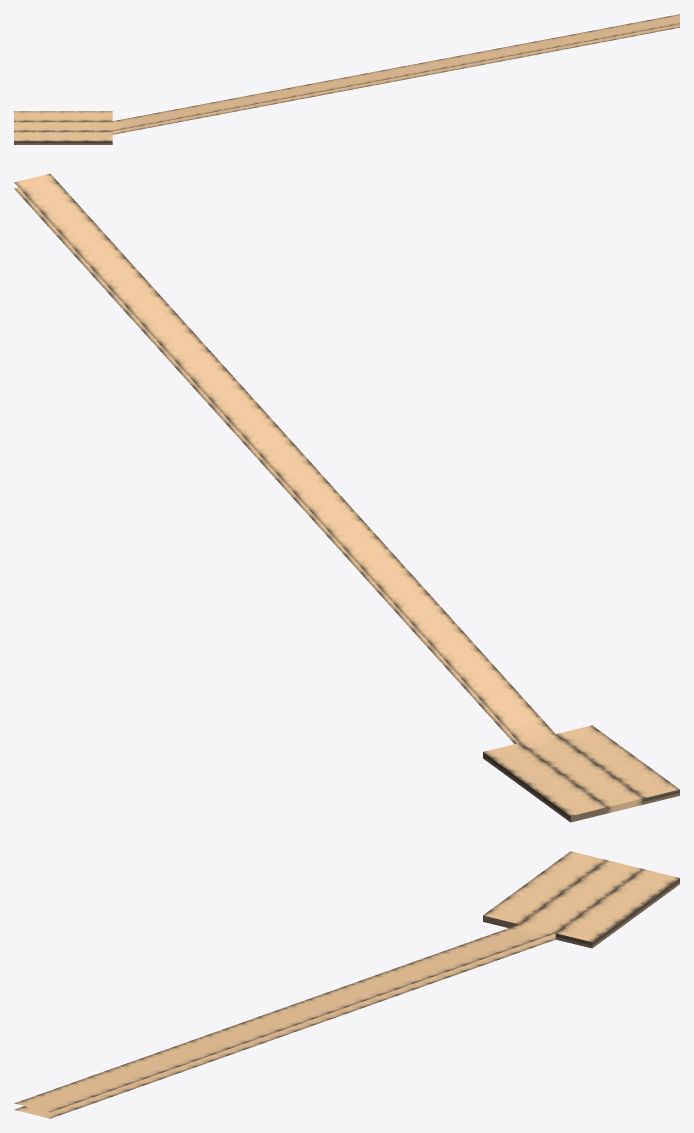
The model's file is CourseSummer_Floor_8.fbx.
3 renders of one model, top to bottom at view 1: azimuth 30°, elevation 25°; view 2: azimuth 150°, elevation 25°; view 3: azimuth 270°, elevation 25°, orthographic. The views are drawn at different scales.
Parts seen in each view (by area): view 1: polySurface47; view 2: polySurface47; view 3: polySurface47.
Boxes of the visible parts, <box> form: polySurface47: <box>14,14,679,144</box>; polySurface47: <box>14,173,679,822</box>; polySurface47: <box>14,851,679,1118</box>.
Size of the model in its own units: 152 by 31 by 94.89.
Materials: 1 (1 with a texture image).
